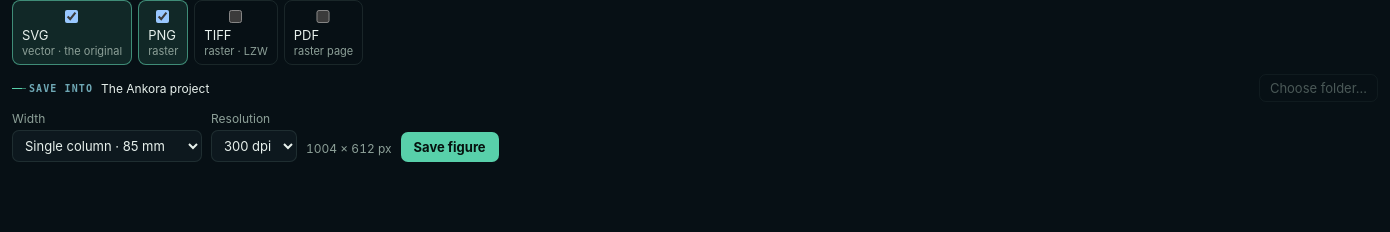
Scenario: reports a refused export instead of appearing to have saved
What coordinates should you click on to do the following:
click the checkbox labelled "PNG raster"
I would click on:
 (163, 16)
Its box is [152,10,173,23].
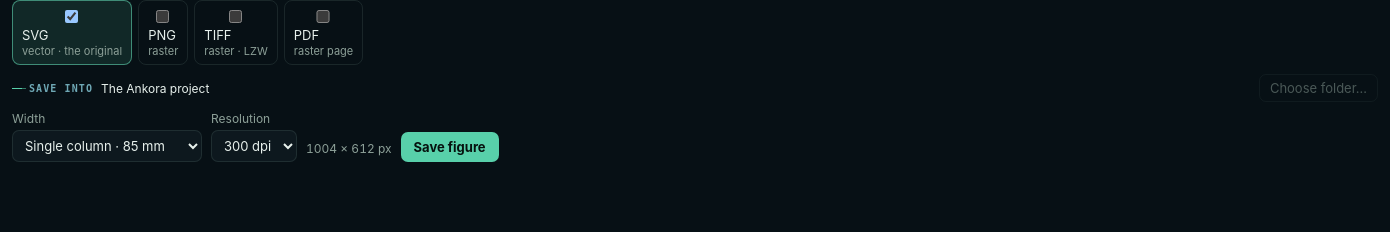
What coordinates should you click on to do the following:
click the button "Save figure"
I would click on:
 (450, 147)
Its box is [401,132,499,162].
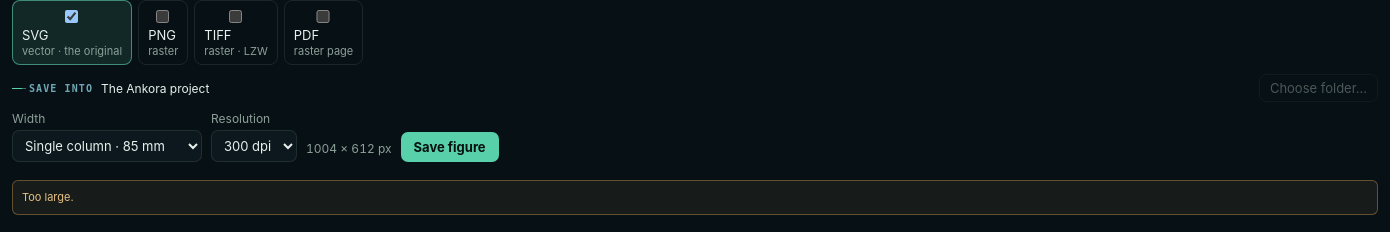
Expected: the message "Too large." is shown, [12,180,1378,215]
